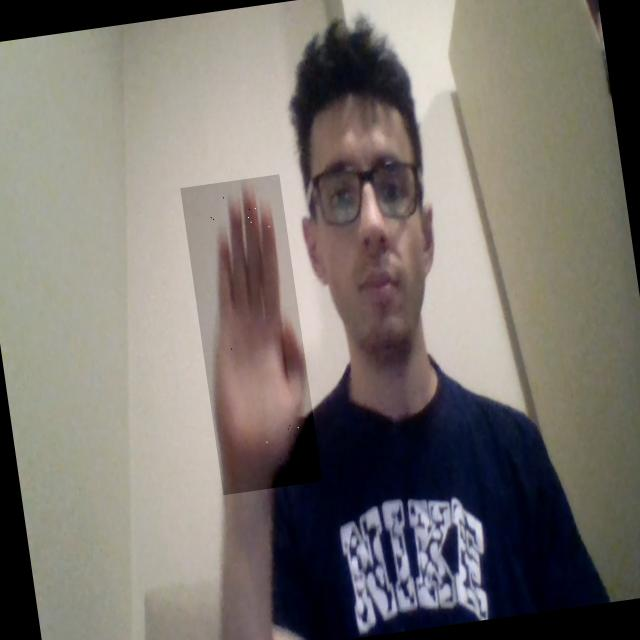hello: (180, 174, 322, 495)
